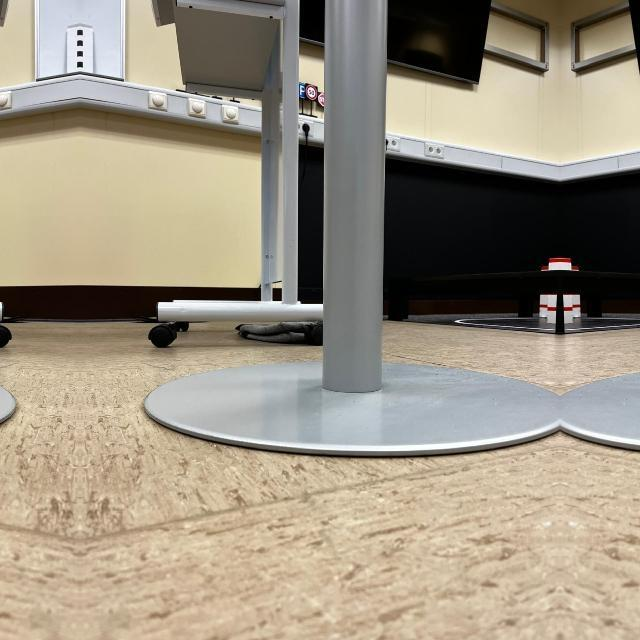obstacle: (146, 72, 560, 454), (560, 72, 640, 454), (150, 278, 324, 350), (0, 72, 13, 454), (0, 277, 10, 350)
